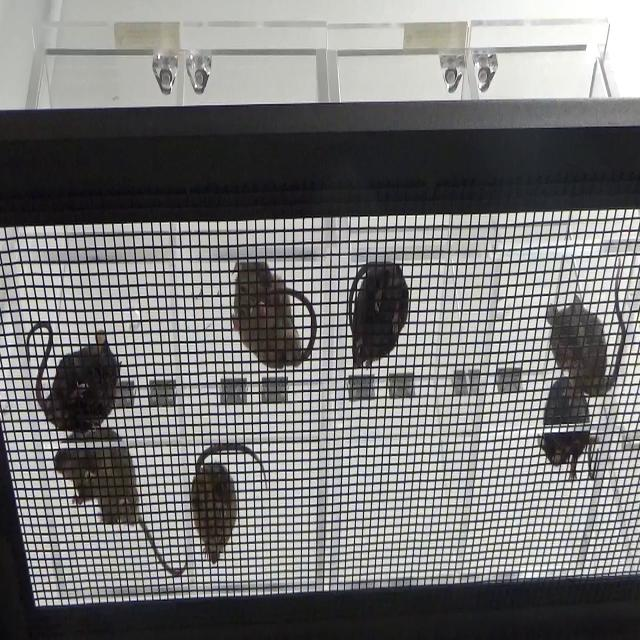scratch: (545, 288, 634, 396)
